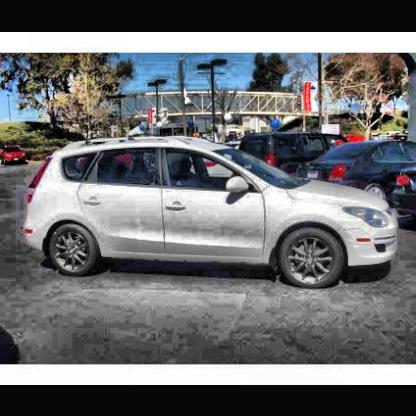Hyundai Elantra Touring Hatchback 2012: (24, 133, 401, 292)
